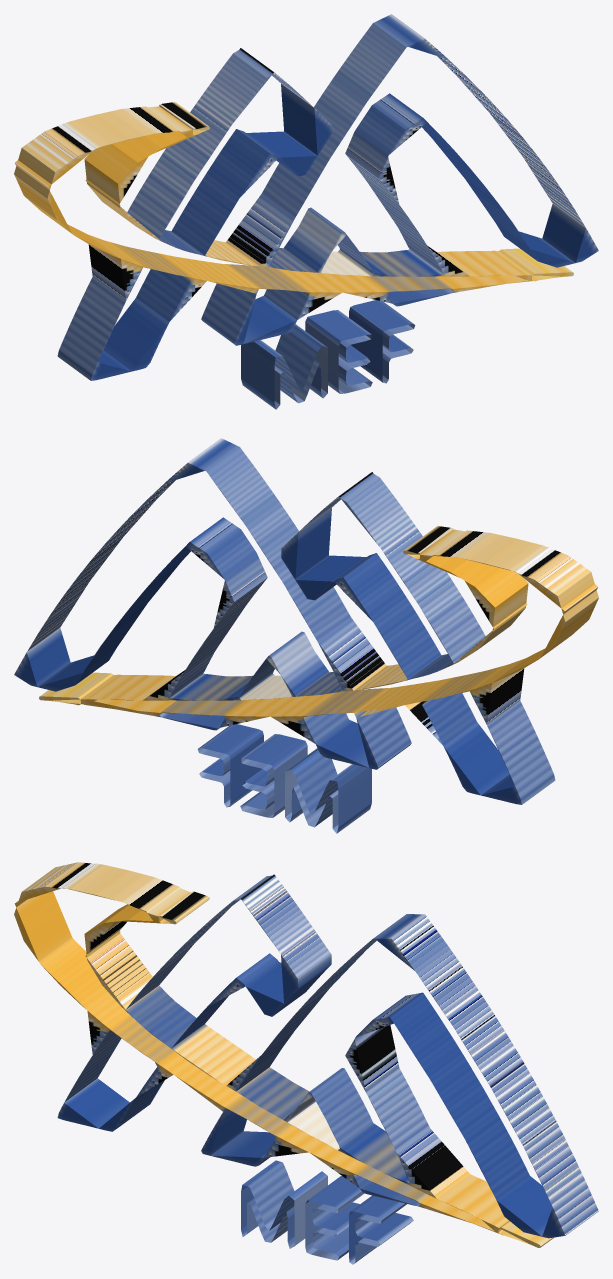
File: mef-forum.glb
3 views of the same model, one above another, from view 1: azimuth 30°, elevation 25°; view 2: azimuth 150°, elevation 25°; view 3: azimuth 330°, elevation 25° (orthographic).
Parts seen in each view (by area): view 1: Curve; view 2: Curve; view 3: Curve.
Part boxes in pixels (left/top/right/bottom): Curve: left=14, top=14, right=598, bottom=409; Curve: left=14, top=438, right=598, bottom=833; Curve: left=14, top=862, right=598, bottom=1264.
Bounding box in the file's own units: 0.0475 × 0.0279 × 0.005.
1 material, 1 textured.
